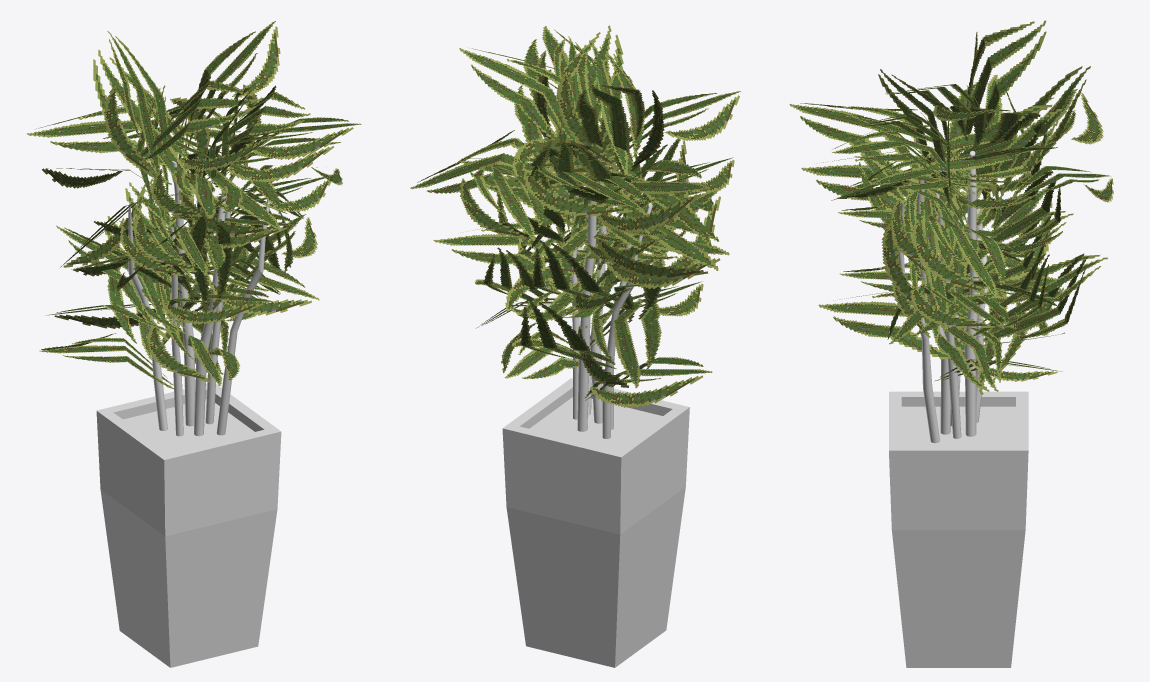
The model's file is SM_big_plant.fbx.
The picture shows the model from 3 angles, left to right: view 1: azimuth 30°, elevation 25°; view 2: azimuth 150°, elevation 25°; view 3: azimuth 270°, elevation 25°; orthographic projection. The views are drawn at different scales.
Visible parts, largest first — view 1: Cube.018, Circle.002, Plane.045, Circle.003, Plane.042, Plane.032, Plane.017, Plane.030, Plane.050, Plane.012, Plane.013, Plane.043 (+25 smaller); view 2: Cube.018, Plane.008, Plane.030, Plane.045, Plane.004, Plane.032, Plane.009, Plane.043, Plane.044, Plane.003, Plane.013, Circle.002 (+29 smaller); view 3: Cube.018, Circle.002, Plane.022, Plane.033, Plane.045, Plane.013, Plane.020, Plane.050, Plane.035, Plane.042, Plane.026, Plane.041 (+32 smaller).
Part boxes in pixels (x1,y1,x2,y2): Cube.018: [96, 383, 281, 667]; Circle.002: [172, 161, 270, 435]; Plane.045: [104, 31, 167, 177]; Circle.003: [128, 191, 226, 436]; Plane.042: [93, 49, 210, 194]; Plane.032: [186, 21, 280, 146]; Plane.017: [179, 164, 281, 236]; Plane.030: [133, 74, 263, 162]; Plane.050: [146, 322, 239, 385]; Plane.012: [132, 212, 225, 275]; Plane.013: [152, 169, 243, 218]; Plane.043: [27, 100, 196, 170]; Cube.018: [502, 378, 689, 667]; Plane.008: [595, 171, 718, 279]; Plane.030: [557, 40, 644, 175]; Plane.045: [577, 85, 664, 173]; Plane.004: [578, 298, 661, 388]; Plane.032: [459, 47, 577, 143]; Plane.009: [596, 160, 709, 233]; Plane.043: [523, 169, 644, 216]; Plane.044: [459, 164, 544, 240]; Plane.003: [585, 357, 712, 408]; Plane.013: [602, 91, 740, 160]; Circle.002: [570, 181, 598, 431]; Cube.018: [889, 391, 1028, 667]; Circle.002: [898, 151, 979, 443]; Plane.022: [911, 213, 1006, 298]; Plane.033: [913, 104, 1062, 182]; Plane.045: [960, 20, 1046, 149]; Plane.013: [789, 103, 927, 183]; Plane.020: [881, 182, 967, 329]; Plane.050: [818, 291, 975, 360]; Plane.035: [992, 171, 1062, 253]; Plane.042: [949, 66, 1090, 160]; Plane.026: [910, 285, 1009, 328]; Plane.041: [936, 324, 1010, 391].
Bounding box in the file's own units: 114 × 206 × 109.
Materials: 4 (1 with a texture image).
